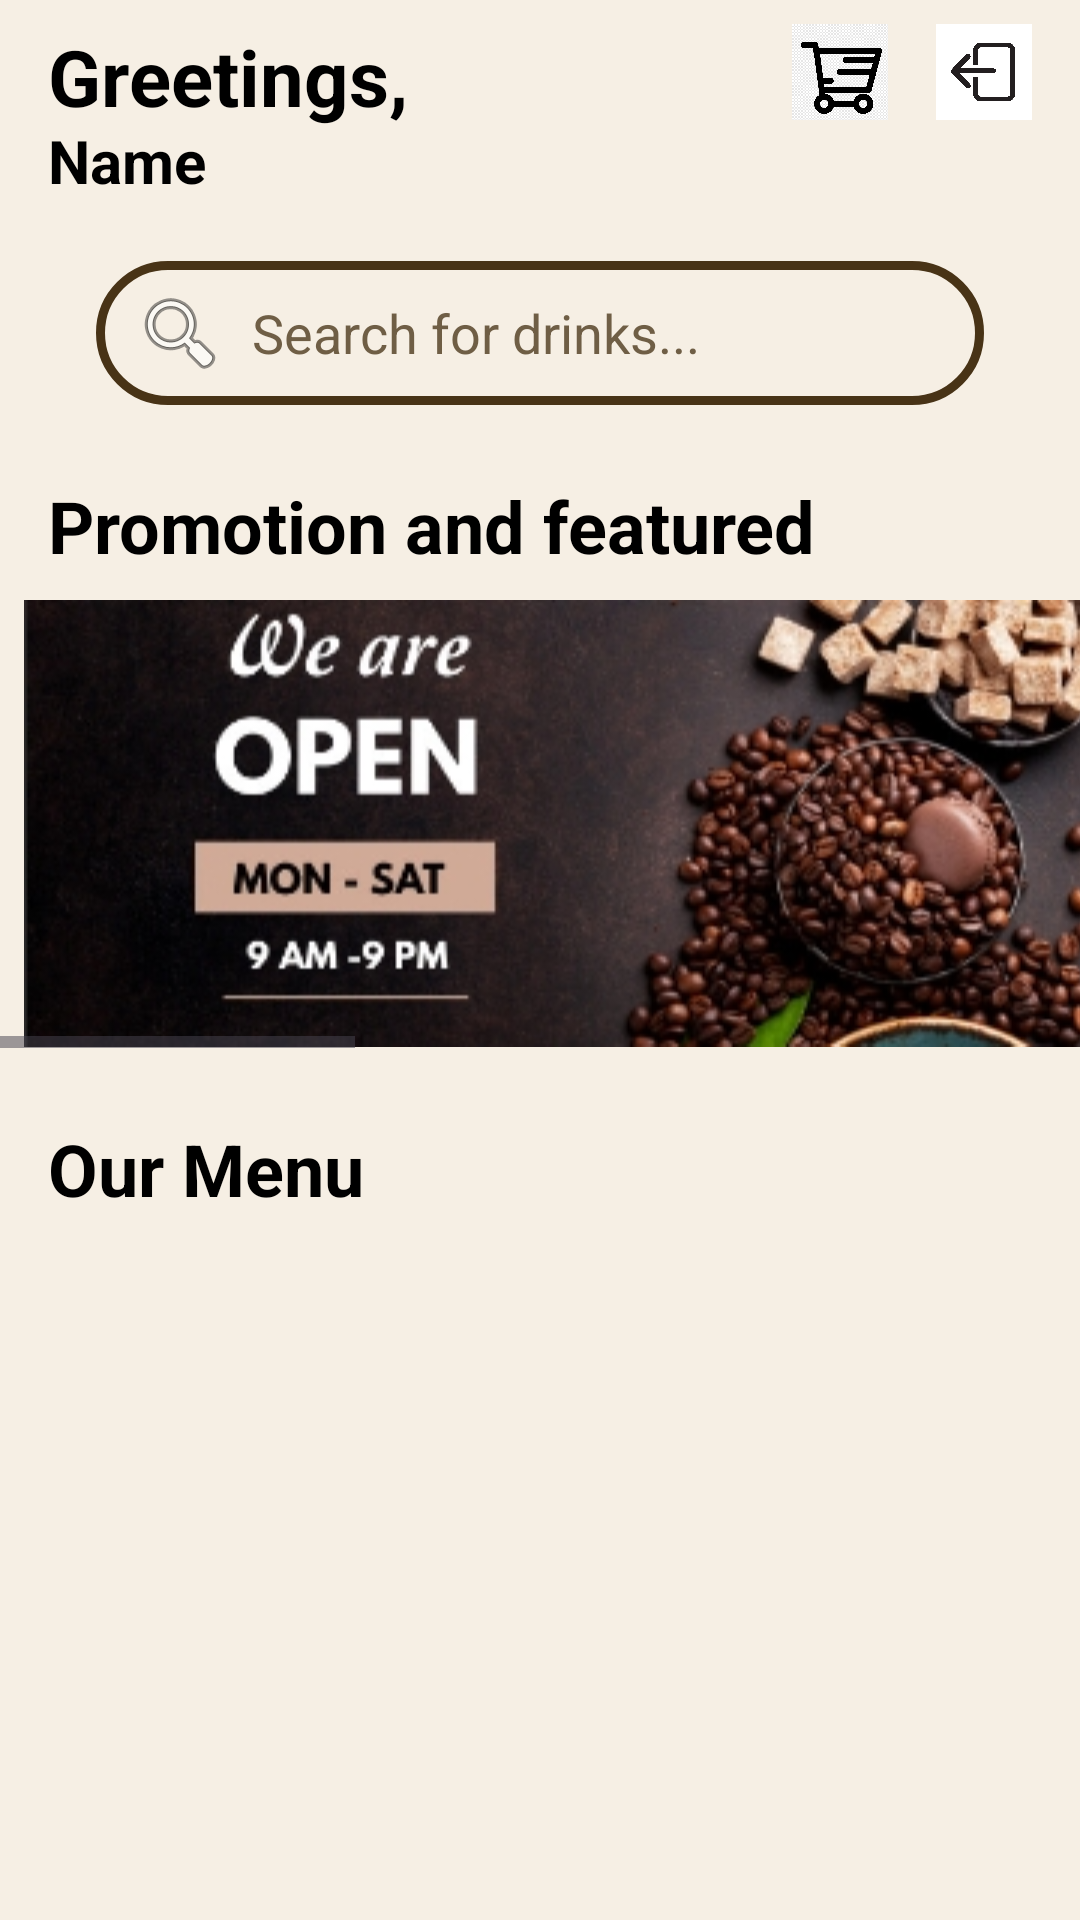

Point at icon controls on the screen. Image size 1080 x 1920, points as [x,y].
cart: [839,71]
